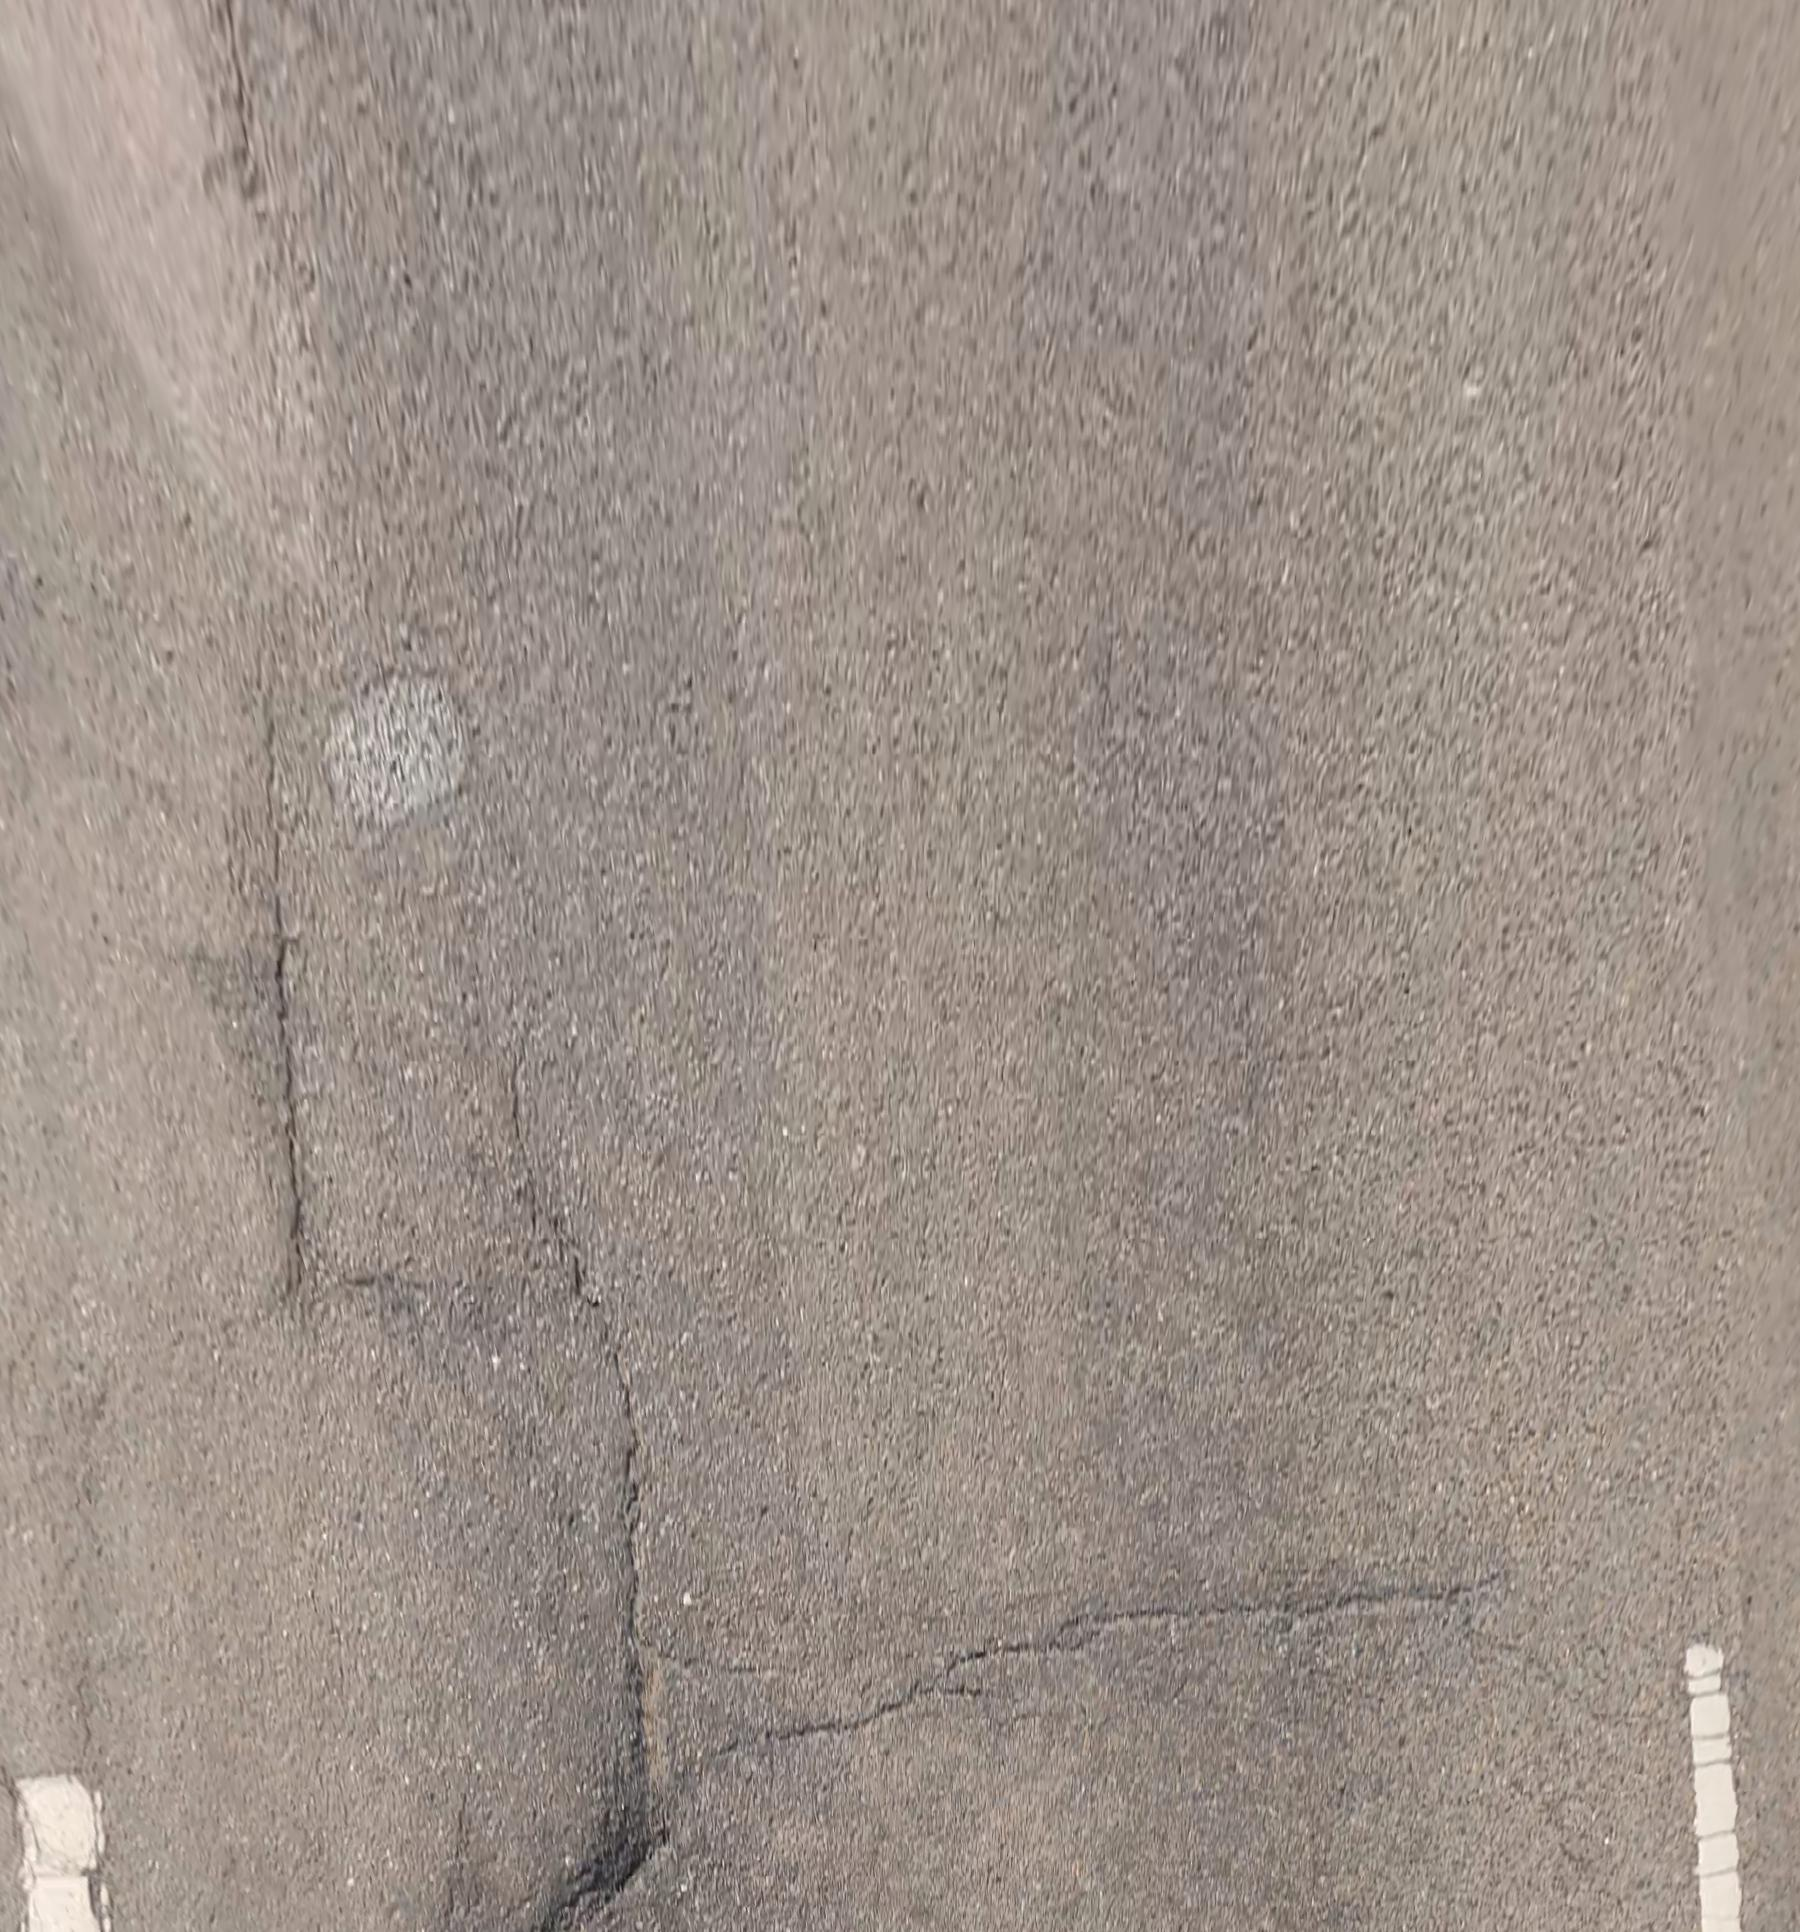pothole: (530, 1589, 661, 1932)
